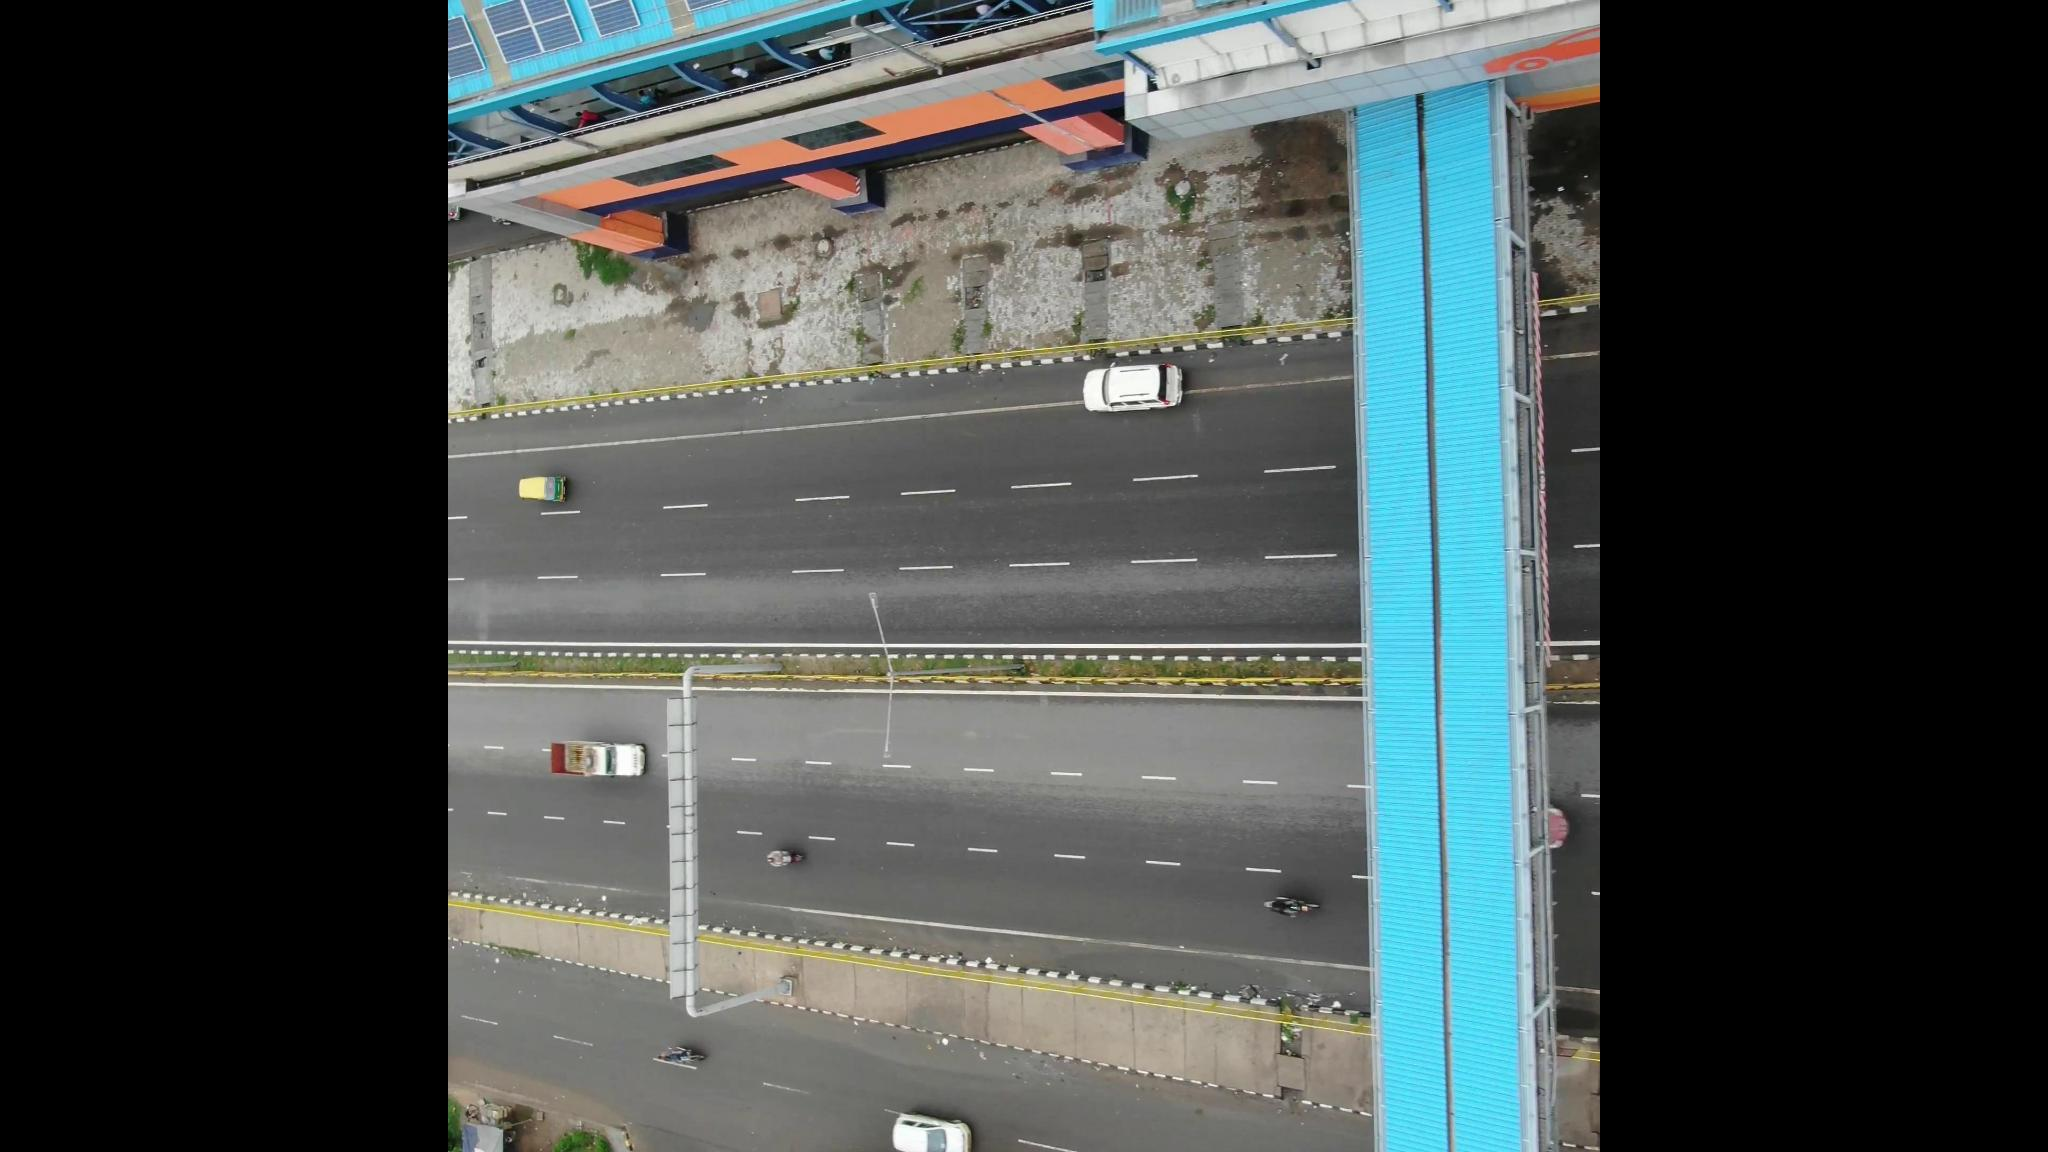Waterlogging: (1045, 933, 1284, 997)
